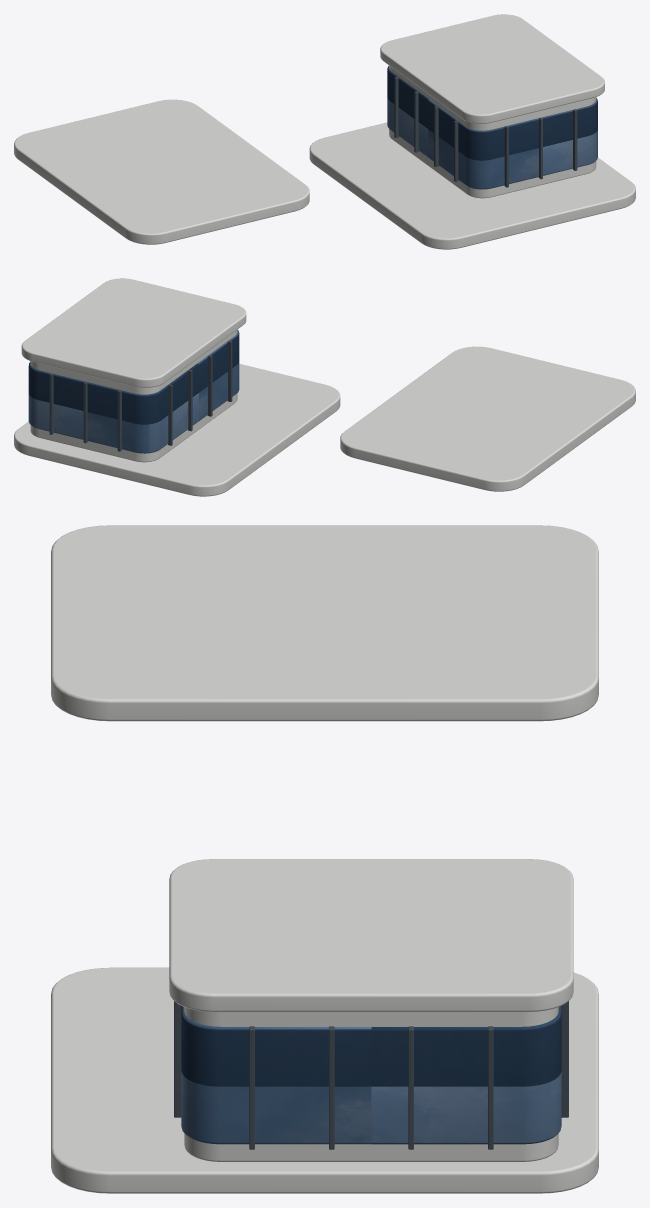
File: roof.glb
The picture shows the model from 3 angles, top to bottom: view 1: azimuth 30°, elevation 25°; view 2: azimuth 150°, elevation 25°; view 3: azimuth 270°, elevation 25°; orthographic projection. The views are drawn at different scales.
Parts seen in each view (by area): view 1: roof; view 2: roof; view 3: roof.
Boxes of the visible parts, box(x1,y1,x2,y2) form: roof: box(14, 14, 635, 249); roof: box(14, 278, 635, 496); roof: box(51, 525, 598, 1193).
Bounding box in the file's own units: 5.79 × 1.07 × 2.71.
3 materials, 1 textured.
